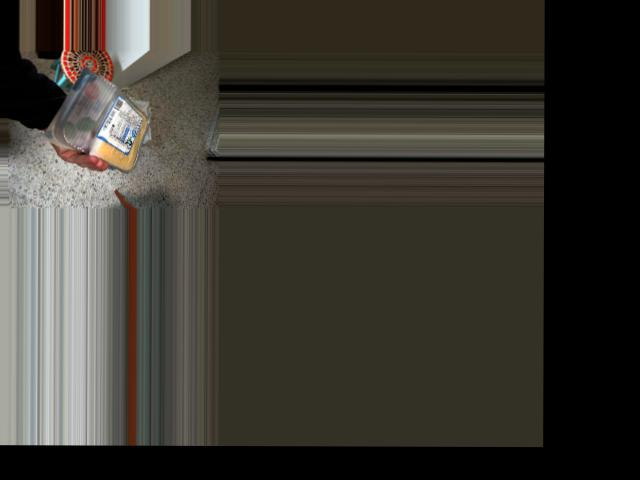cheese: (51, 66, 158, 159)
